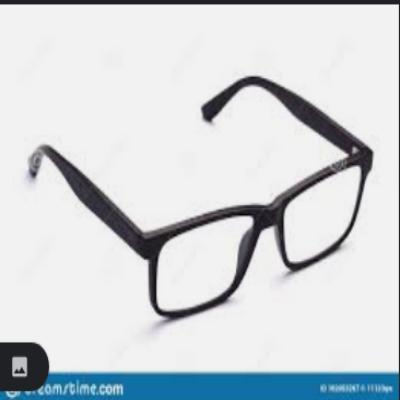glasses: (27, 74, 378, 323)
